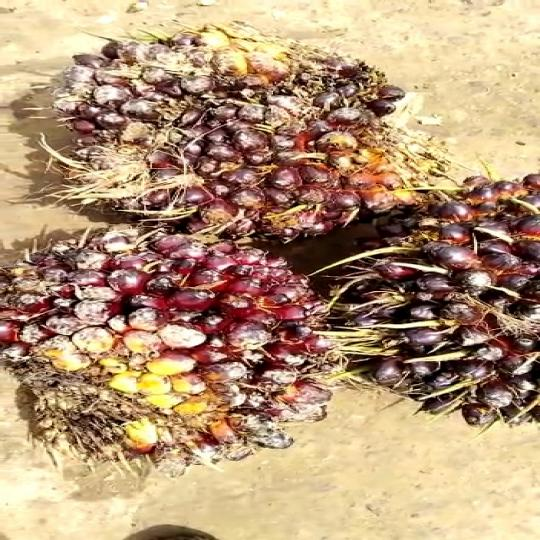kurang masak: (38, 22, 448, 267), (0, 218, 342, 487), (325, 172, 540, 420)
